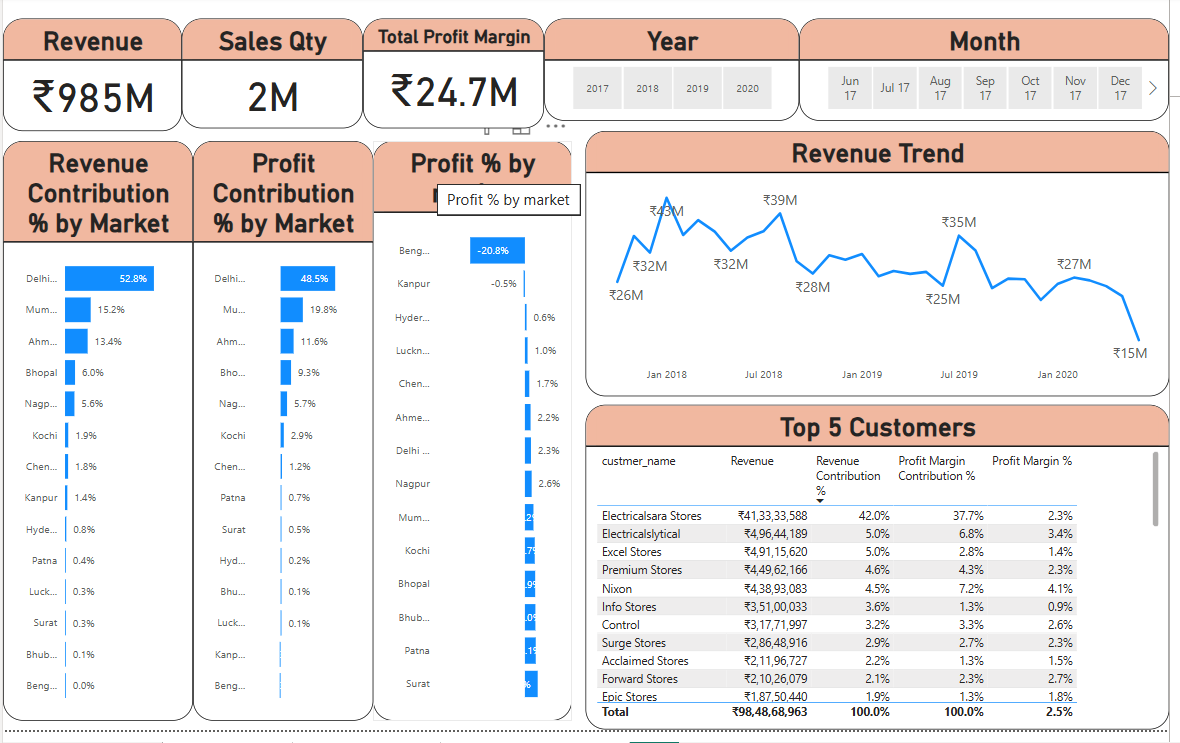

What the dashboard file says about the page in this screenshot:
{"tool":"powerbi","page":{"name":"Profit Analysis","canvas":[1350,850],"ordinal":1},"visuals":[{"type":"barChart","title":"Profit % by market","fields":{"Y":["BaseMeasures (2).Profit Margin %"],"Category":["sales markets.markets_name"]},"box":[428.4,167.9,230.1,671.5],"z":2000},{"type":"barChart","title":"Profit Contribution % by Market","fields":{"Y":["BaseMeasures (2).Profit Margin Contribution %"],"Category":["sales markets.markets_name"]},"box":[220,167.9,208.4,671.5],"z":3000},{"type":"tableEx","title":"Top 5 Customers","fields":{"Values":["sales customers.custmer_name","BaseMeasures (2).Revenue","BaseMeasures (2).Revenue Contribution %","BaseMeasures (2).Profit Margin Contribution %","BaseMeasures (2).Profit Margin %"]},"box":[674.4,473.3,675.9,376.3],"z":6000},{"type":"lineChart","title":"Revenue Trend","fields":{"Y":["BaseMeasures (2).Revenue"],"Category":["sales date.cy_date"]},"box":[674.4,156.3,675.9,306.8],"z":7000},{"type":"barChart","title":"Revenue Contribution % by Market","fields":{"Y":["BaseMeasures (2).Revenue Contribution %"],"Category":["sales markets.markets_name"]},"box":[0,167.9,220,671.5],"z":9000},{"type":"card","title":"Revenue","fields":{"Values":["BaseMeasures (2).Revenue"]},"box":[0,26.1,207,130.3],"z":9001},{"type":"card","title":"Sales Qty","fields":{"Values":["BaseMeasures (2).Sales Qty"]},"box":[207,26.1,209.9,127.4],"z":9002},{"type":"card","title":"Total Profit Margin","fields":{"Values":["BaseMeasures (2).Total Profit Margin"]},"box":[416.8,26.1,209.9,127.4],"z":9003},{"type":"slicer","title":"Year","fields":{"Values":["sales date.year"]},"box":[626.7,26.1,295.2,118.7],"z":9004},{"type":"slicer","title":"Month","fields":{"Values":["sales date.cy_date"]},"box":[921.9,26.1,428.4,118.7],"z":9005}]}

Visuals, with their boxes in screenshot pixels (x1, y1, x2, y2), scaled from the page's 1350x850 canvas onto the 1180x743 screenshot:
"Profit % by market" barChart: <region>374, 147, 576, 734</region>
"Profit Contribution % by Market" barChart: <region>192, 147, 374, 734</region>
"Top 5 Customers" tableEx: <region>589, 414, 1179, 742</region>
"Revenue Trend" lineChart: <region>589, 137, 1179, 405</region>
"Revenue Contribution % by Market" barChart: <region>0, 147, 192, 734</region>
"Revenue" card: <region>0, 23, 181, 137</region>
"Sales Qty" card: <region>181, 23, 364, 134</region>
"Total Profit Margin" card: <region>364, 23, 548, 134</region>
"Year" slicer: <region>548, 23, 806, 127</region>
"Month" slicer: <region>806, 23, 1179, 127</region>
